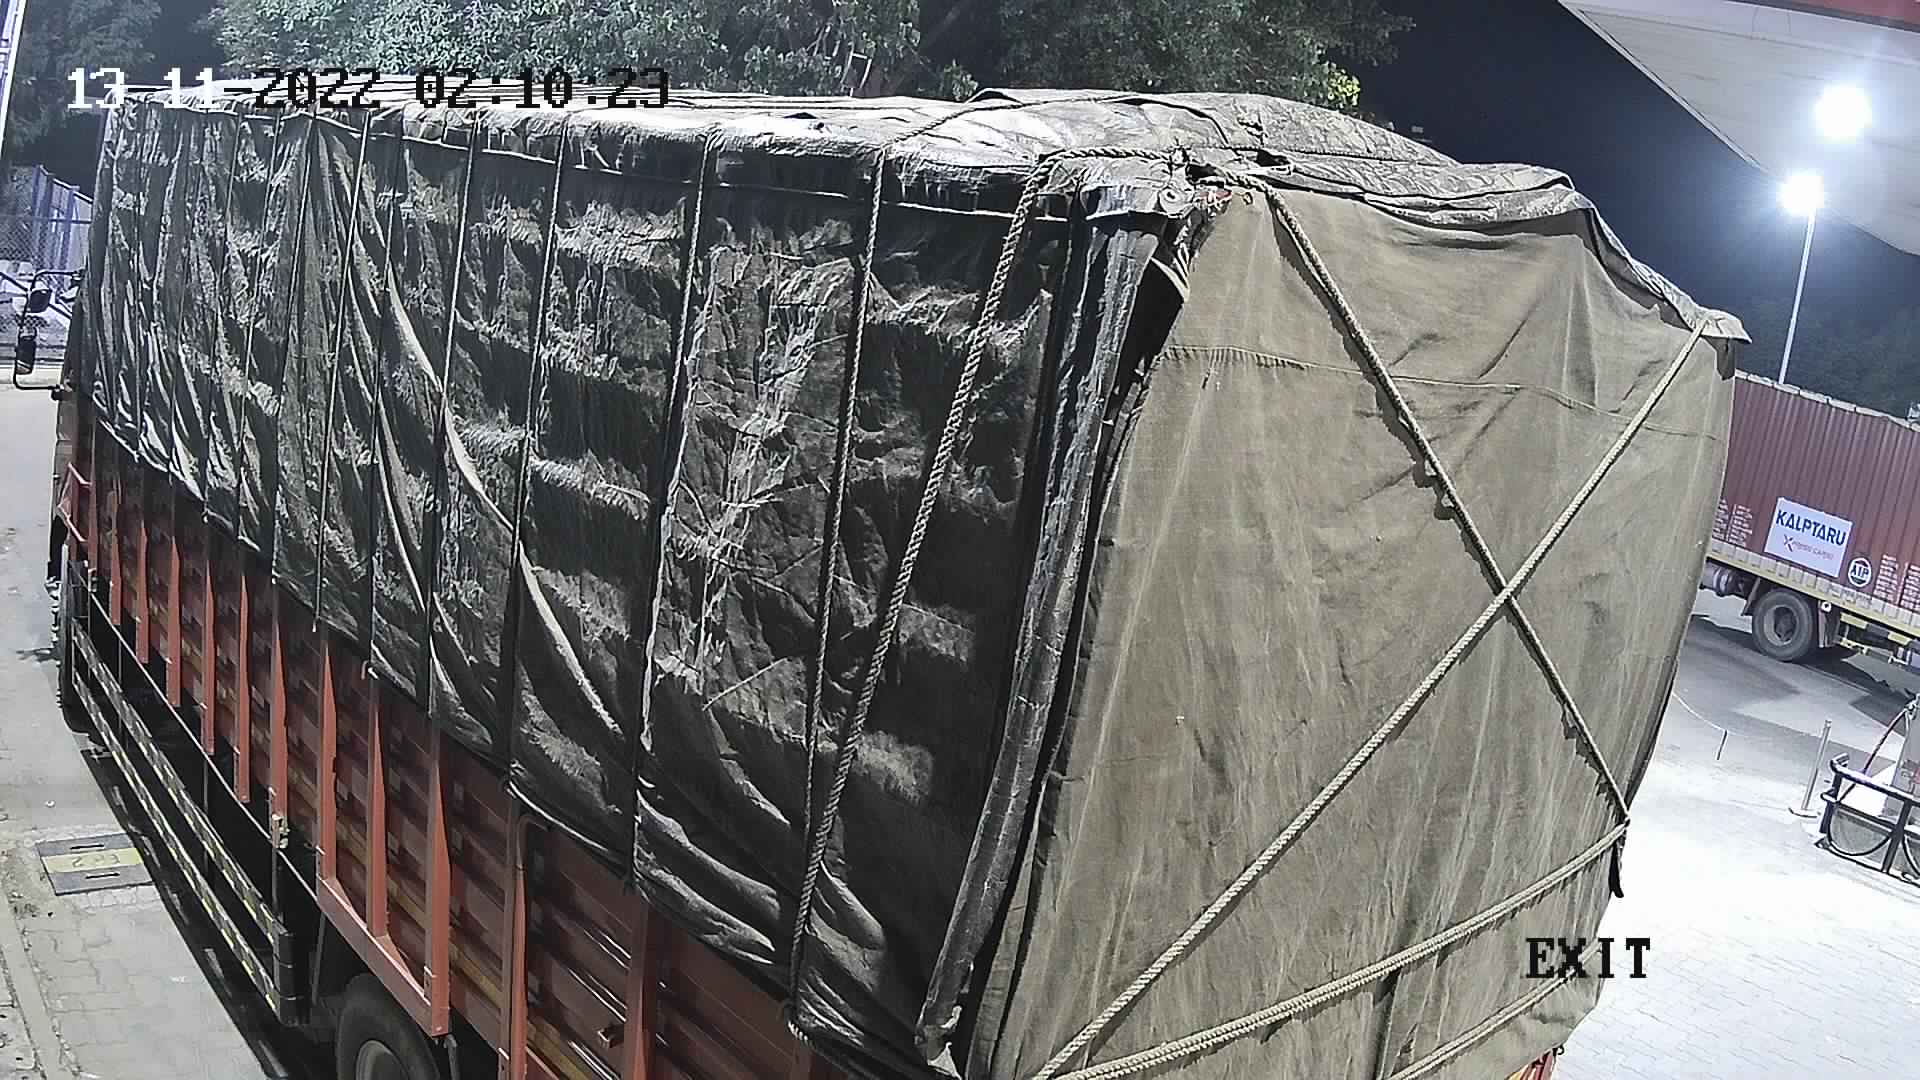HMV: (5, 53, 1763, 1078), (1689, 360, 1918, 685)
